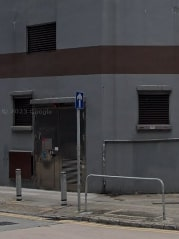One Way Traffic: (74, 91, 84, 111)
